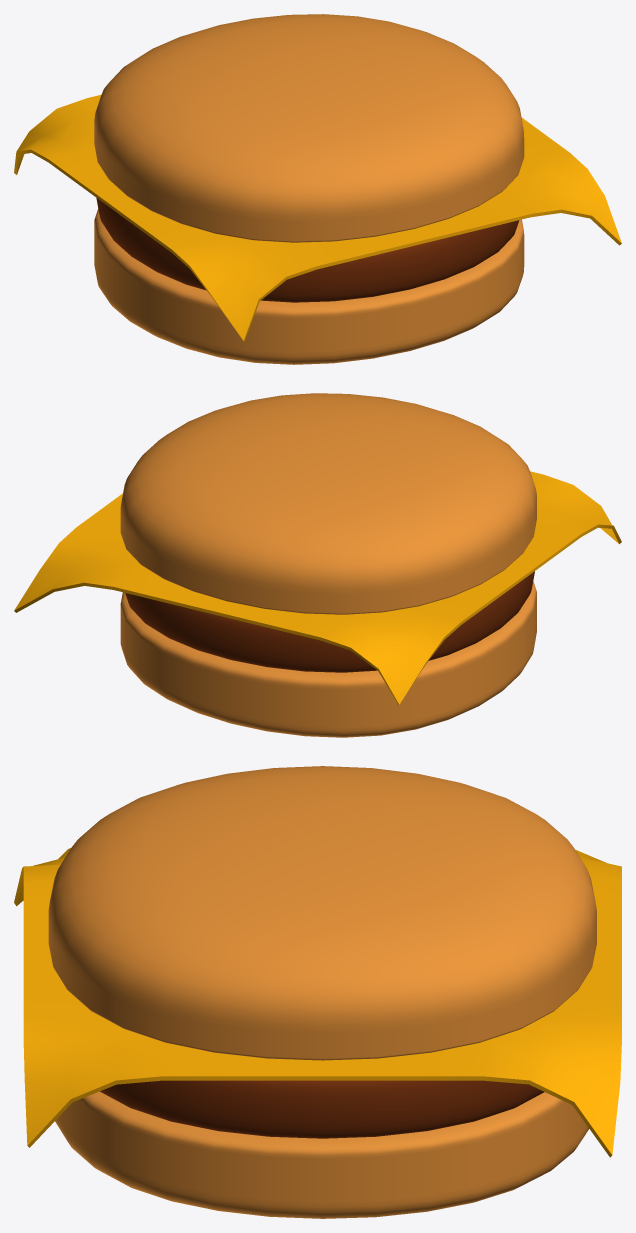
Rendered from burger.glb.
3 renders of one model, top to bottom at view 1: azimuth 30°, elevation 25°; view 2: azimuth 150°, elevation 25°; view 3: azimuth 270°, elevation 25°, orthographic. The views are drawn at different scales.
Visible parts, largest first — view 1: Cube.002, Cube, Plane, Cube.001; view 2: Cube.002, Cube, Plane, Cube.001; view 3: Cube.002, Plane, Cube, Cube.001.
Boxes of the visible parts, left/top/right/bottom form: Cube.002: left=94, top=14, right=524, bottom=242; Cube: left=94, top=209, right=524, bottom=364; Plane: left=14, top=94, right=621, bottom=341; Cube.001: left=96, top=198, right=519, bottom=302; Cube.002: left=120, top=393, right=536, bottom=614; Cube: left=120, top=581, right=536, bottom=737; Plane: left=14, top=471, right=621, bottom=705; Cube.001: left=125, top=571, right=534, bottom=672; Cube.002: left=48, top=766, right=596, bottom=1060; Plane: left=14, top=848, right=621, bottom=1157; Cube: left=55, top=1091, right=588, bottom=1218; Cube.001: left=100, top=1080, right=544, bottom=1138.
Size of the model in its own units: 10.37 by 5.32 by 10.16.
